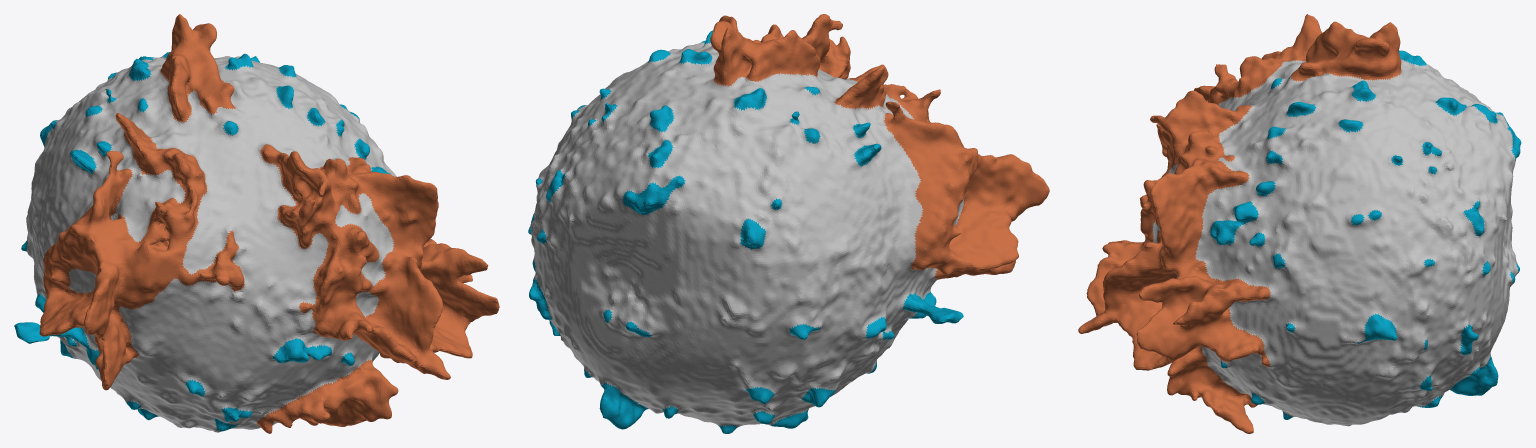
3 renders of one model, left to right at view 1: azimuth 30°, elevation 25°; view 2: azimuth 150°, elevation 25°; view 3: azimuth 270°, elevation 25°, orthographic. The views are drawn at different scales.
Bounding box in the file's own units: 175 × 164 × 176.
